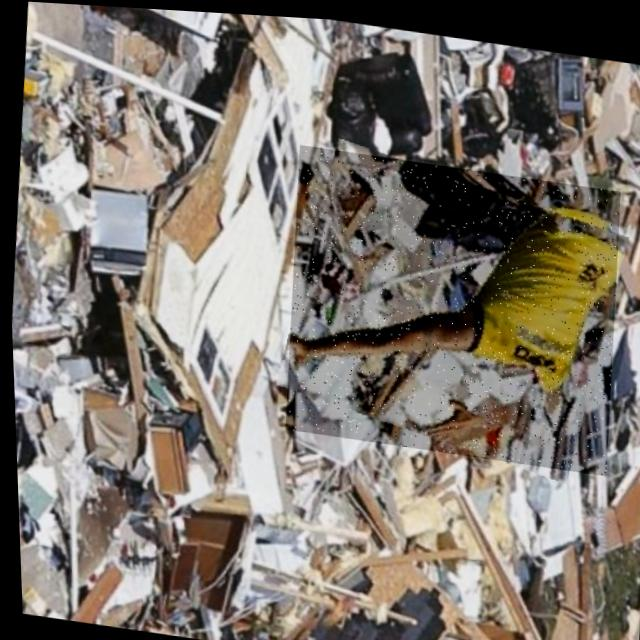Person in Rubble: (272, 140, 626, 470)
